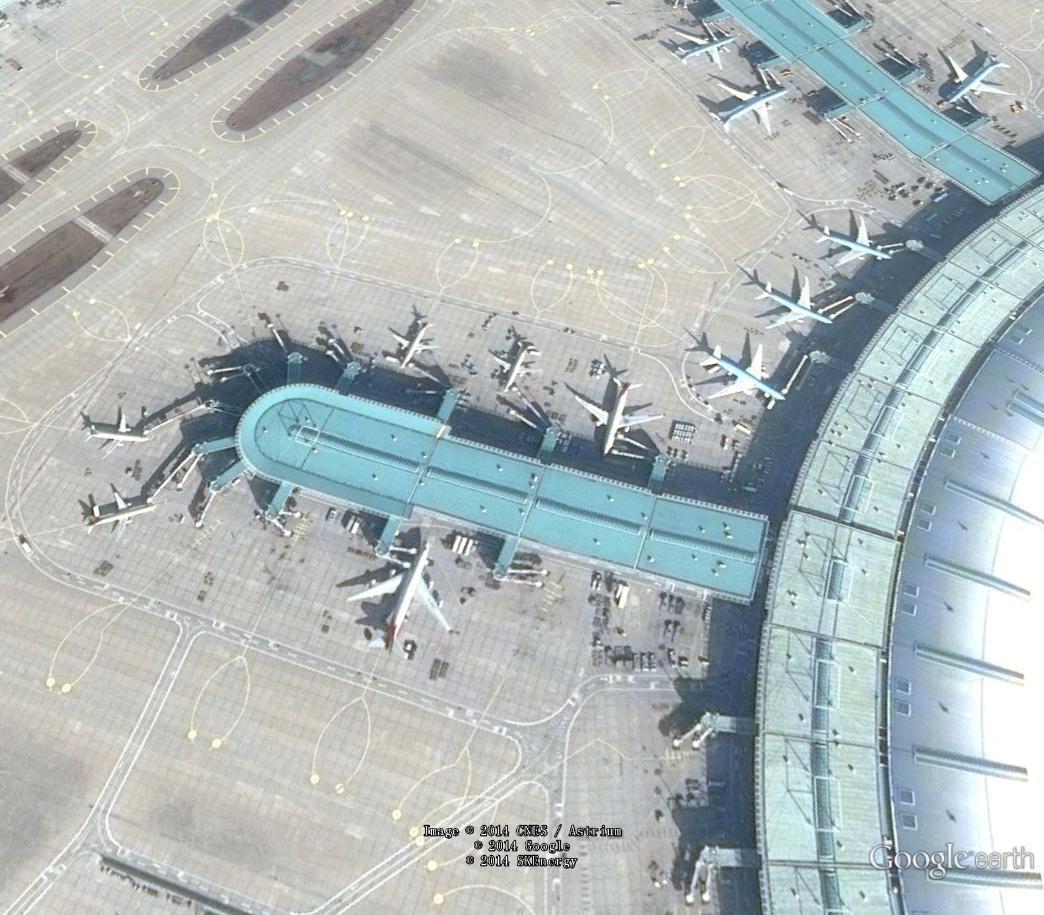aircraft: (342, 540, 460, 661), (568, 373, 667, 460), (691, 337, 801, 409), (810, 207, 904, 274), (697, 78, 793, 142), (936, 43, 1023, 109), (753, 273, 843, 336), (82, 489, 163, 546), (81, 403, 153, 462), (483, 336, 546, 397), (658, 24, 739, 69), (387, 312, 441, 376)
